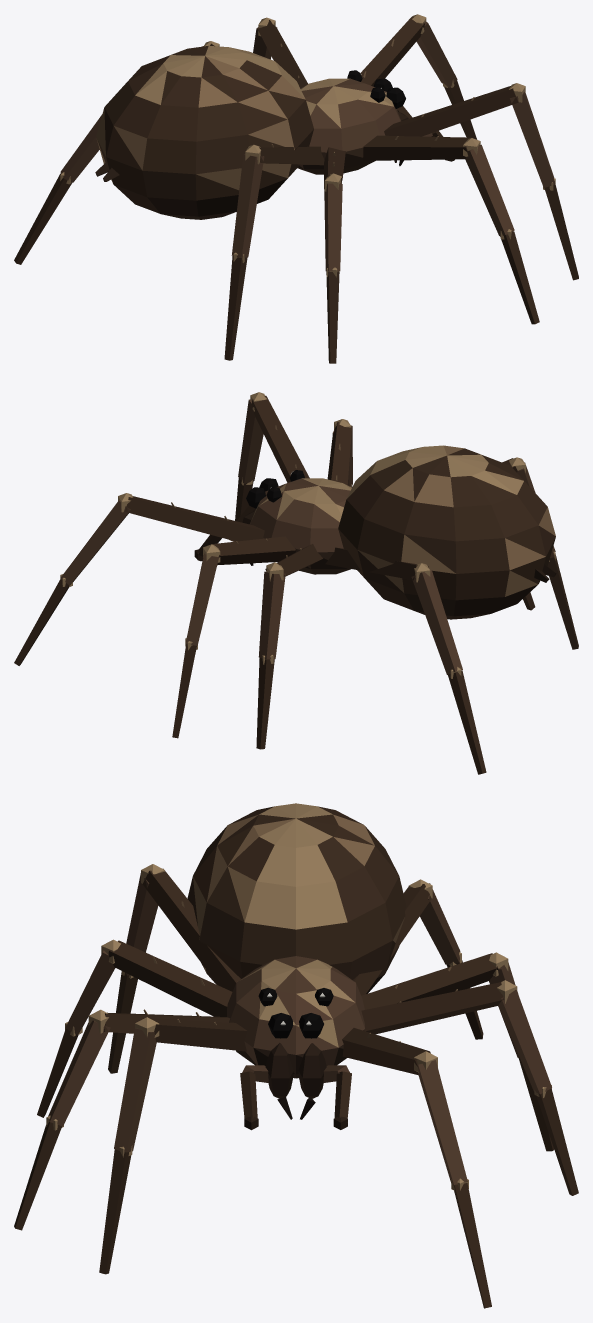
Rendered from creatures-wolf-spider-walking.glb.
3 views of the same model, one above another, from view 1: azimuth 30°, elevation 25°; view 2: azimuth 150°, elevation 25°; view 3: azimuth 270°, elevation 25° (orthographic). The views are drawn at different scales.
Size of the model in its own units: 34.9 by 16.92 by 30.35.
